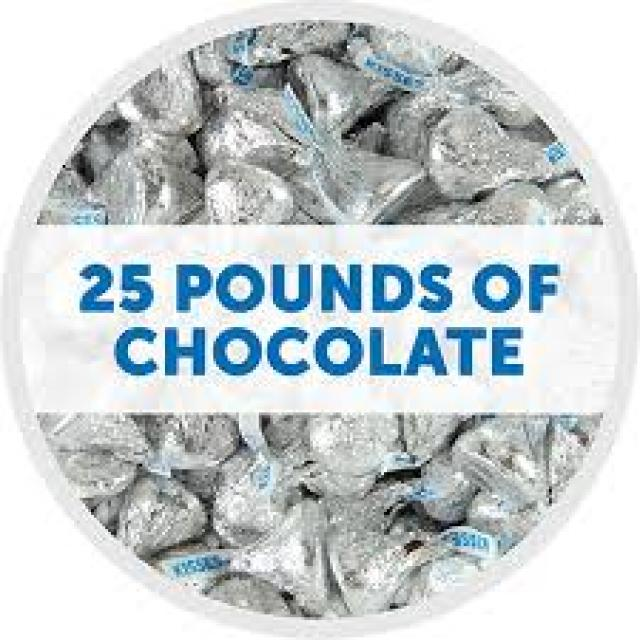kisses: (299, 126, 428, 227), (244, 492, 342, 602), (421, 92, 514, 201), (180, 83, 300, 167), (216, 444, 307, 549), (114, 471, 214, 564), (324, 520, 419, 616), (287, 54, 394, 135), (114, 122, 200, 218), (196, 154, 304, 227), (454, 415, 545, 501), (56, 415, 152, 494), (306, 414, 404, 481), (415, 451, 494, 527)
